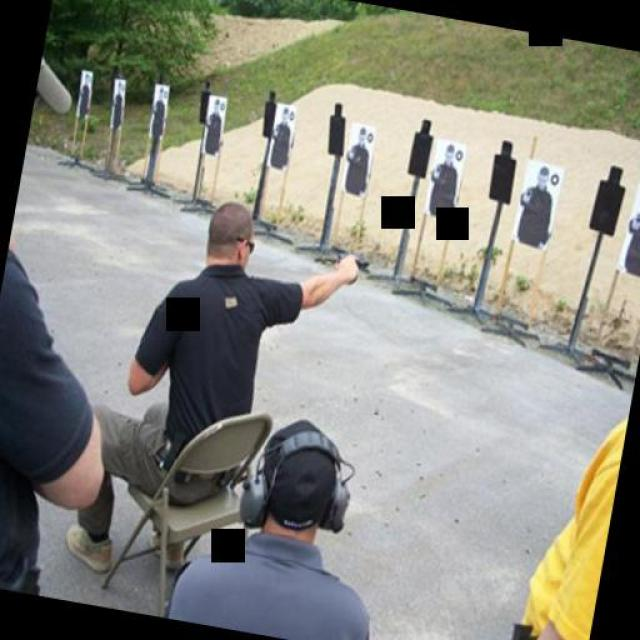gun: (325, 240, 369, 281)
